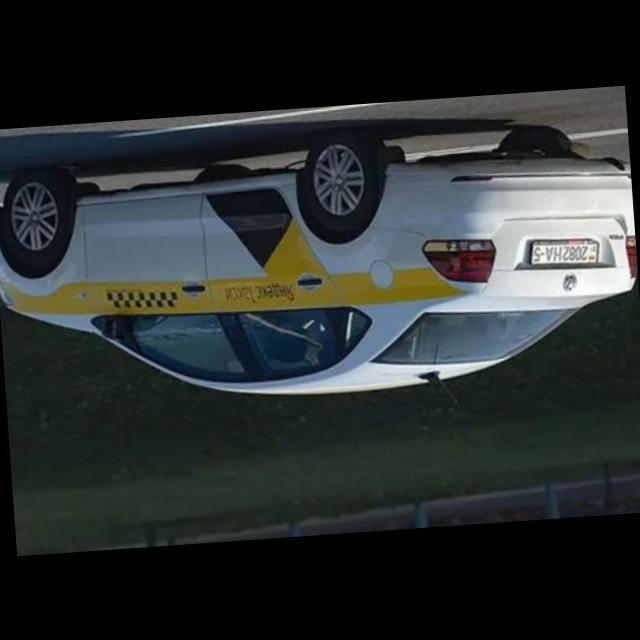taxi: (1, 108, 640, 436)
